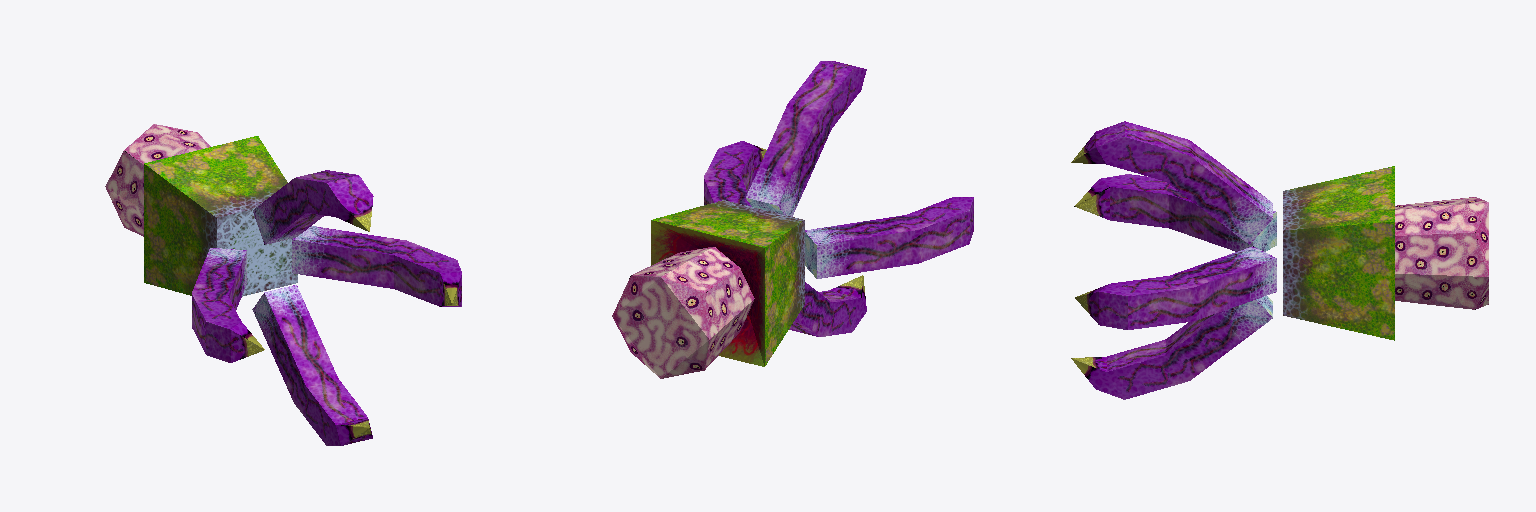
The picture shows the model from 3 angles: view 1: azimuth 30°, elevation 25°; view 2: azimuth 150°, elevation 25°; view 3: azimuth 270°, elevation 25°; orthographic projection.
Parts seen in each view (by area): view 1: cube1_copy6_default_001_cube1_copy6_default.001, cube1_default_001_cube1_default.001, cube1_sep5_default_001_cube1_sep5_default.001; view 2: cube1_copy6_default_001_cube1_copy6_default.001, cube1_sep5_default_001_cube1_sep5_default.001, cube1_default_001_cube1_default.001; view 3: cube1_copy6_default_001_cube1_copy6_default.001, cube1_default_001_cube1_default.001, cube1_sep5_default_001_cube1_sep5_default.001.
Boxes of the visible parts, <box> form: cube1_copy6_default_001_cube1_copy6_default.001: <box>192,170,461,445</box>; cube1_default_001_cube1_default.001: <box>144,136,297,296</box>; cube1_sep5_default_001_cube1_sep5_default.001: <box>105,124,210,236</box>; cube1_copy6_default_001_cube1_copy6_default.001: <box>704,61,973,336</box>; cube1_sep5_default_001_cube1_sep5_default.001: <box>612,247,754,378</box>; cube1_default_001_cube1_default.001: <box>651,200,804,366</box>; cube1_copy6_default_001_cube1_copy6_default.001: <box>1071,121,1276,399</box>; cube1_default_001_cube1_default.001: <box>1283,166,1394,340</box>; cube1_sep5_default_001_cube1_sep5_default.001: <box>1395,197,1488,309</box>.
Size of the model in its own units: 9.5 by 9.5 by 13.68.
Materials: 3 (3 with a texture image).